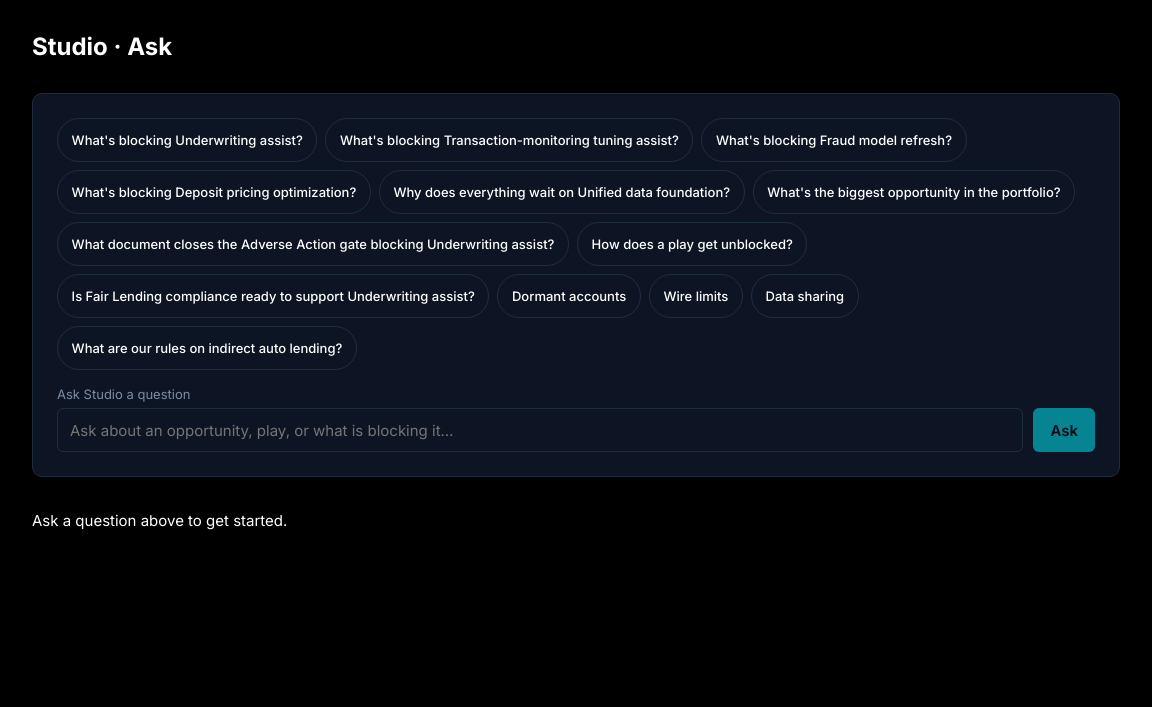
Scenario: Ask Studio (amendment A20) — selecting a real scripted question renders its real responseText on the response canvas › typing the exact question and pressing Ask renders the scripted answer (regression: was always defaultNoMatchMessage, entries: [])
Type "What's blocking Underwriting assist?" into the field labelled "Ask Studio a question". click: (540, 430)
box: [57,408,1023,452]
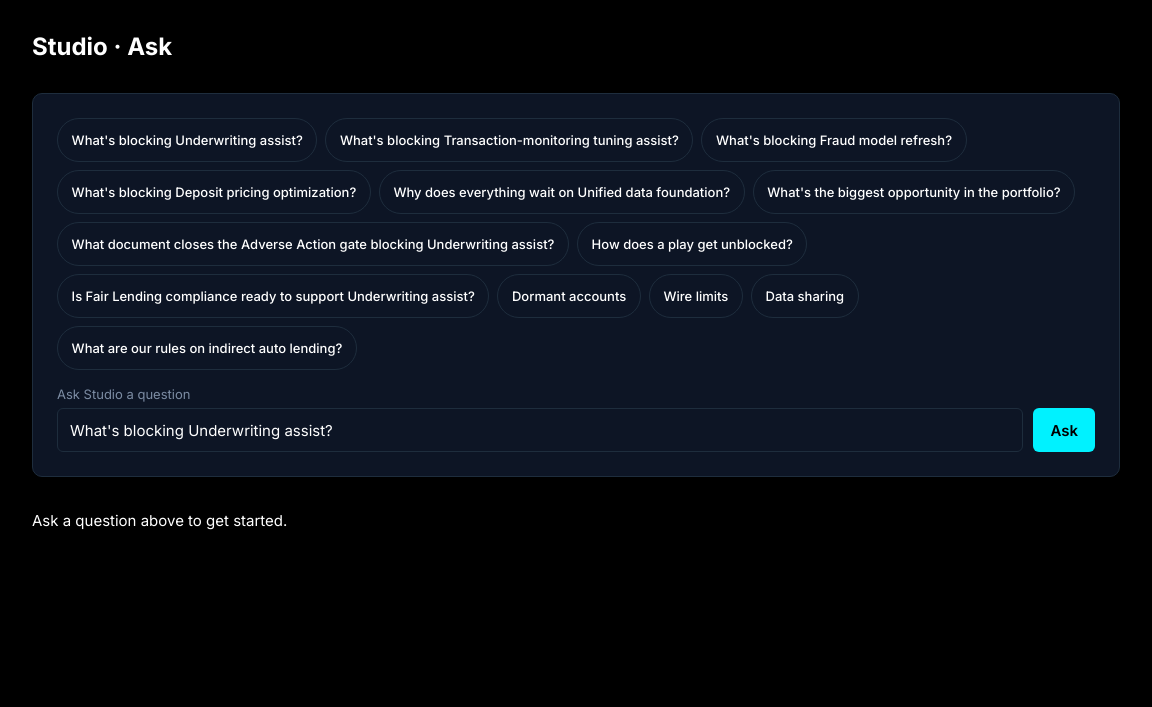
Click the button "Ask". click: (1064, 430)
box: [1033,408,1095,452]
Wait 800 ms
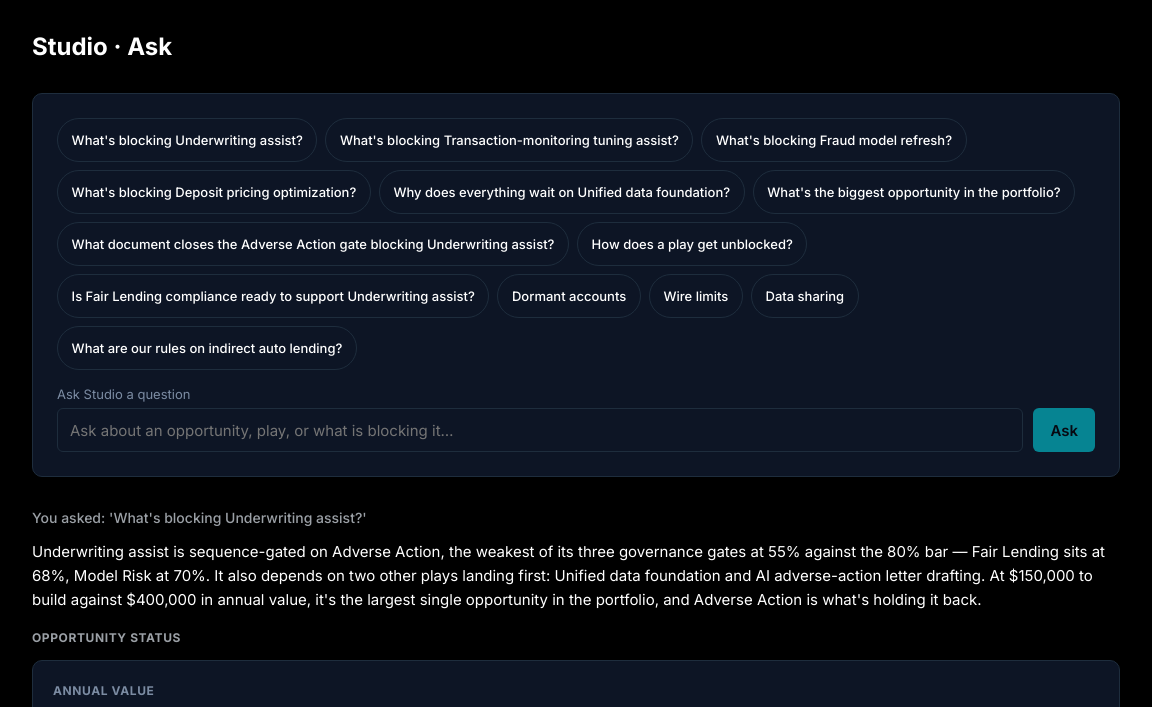
expect the text "Underwriting assist is sequence-gated on Adverse Action, the weakest of its three governance gates at 55% against the 80" is shown: met, box [32,542,1105,609]
